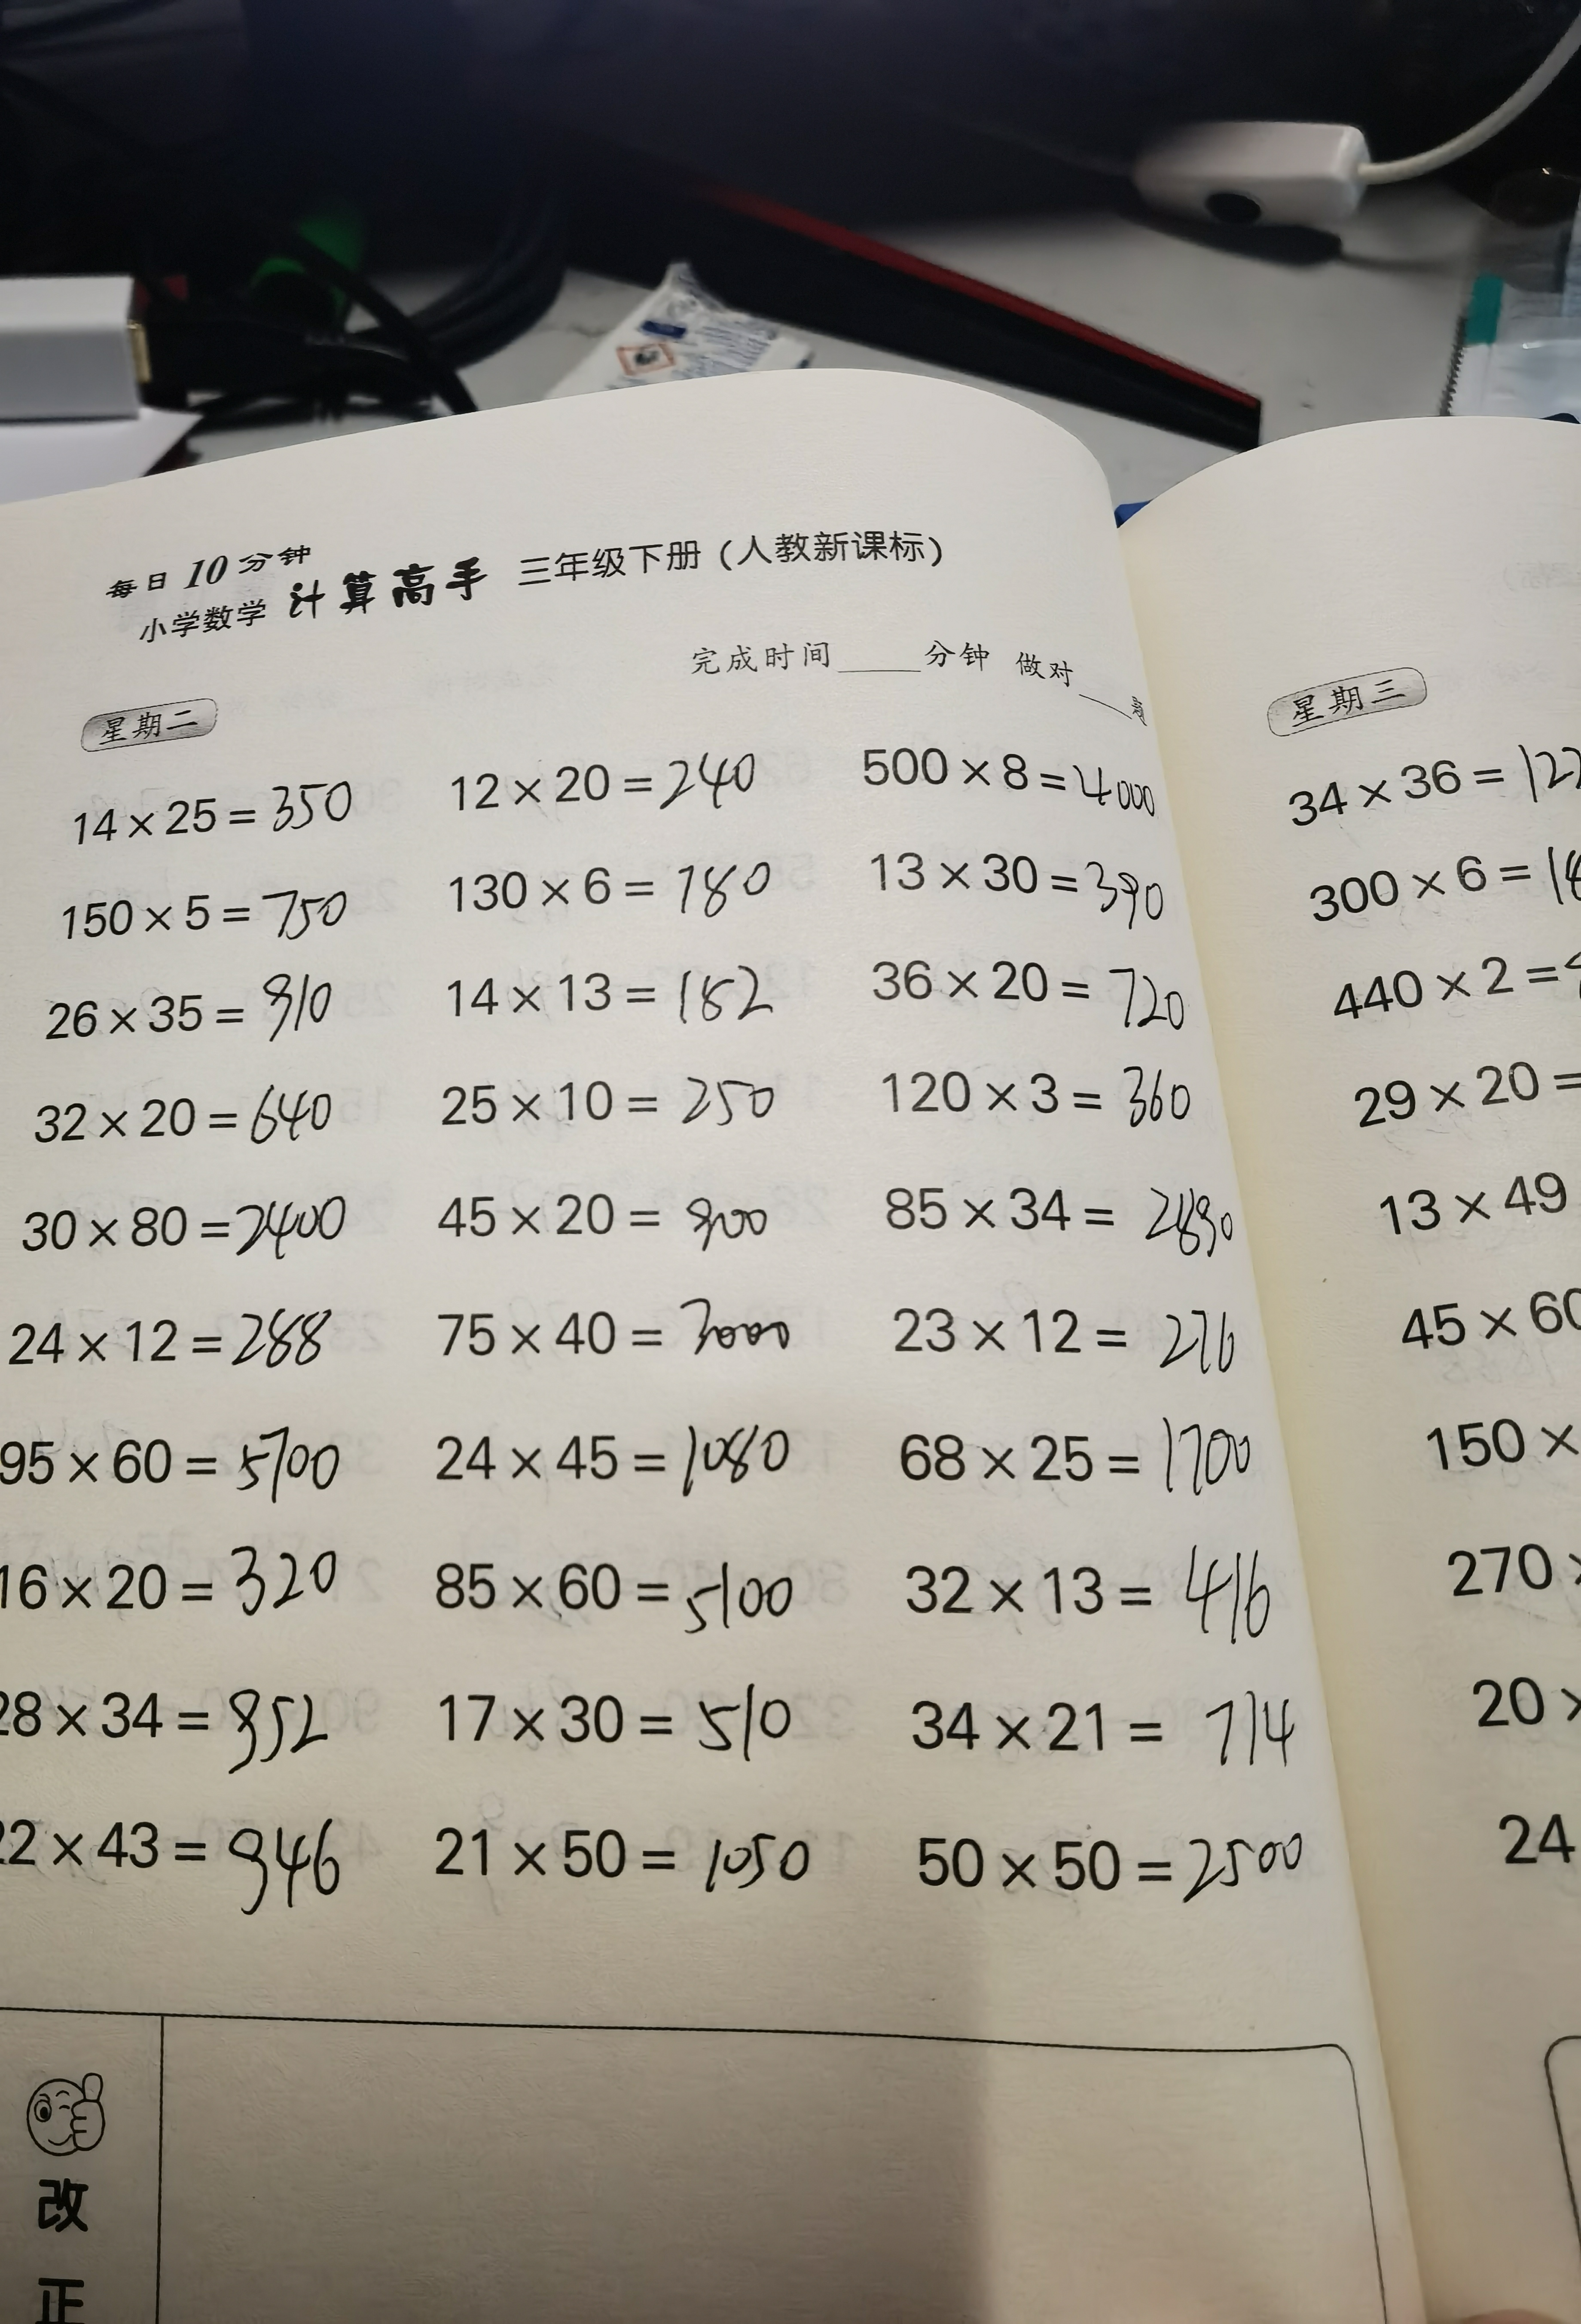equation: (907, 1509, 1323, 1646), (427, 1796, 854, 1930), (831, 685, 1189, 829), (900, 1666, 1306, 1791), (907, 1816, 1343, 1930), (4, 1802, 356, 1936), (877, 1147, 1239, 1272), (423, 1542, 824, 1653), (404, 1657, 810, 1759), (882, 1271, 1258, 1380), (416, 1405, 822, 1503), (858, 946, 1210, 1059), (873, 1048, 1223, 1161), (5, 1532, 367, 1638), (2, 1675, 356, 1779), (866, 829, 1195, 939), (434, 1292, 829, 1382), (12, 1290, 362, 1389), (896, 1408, 1263, 1502), (415, 1057, 792, 1147), (441, 842, 790, 935), (429, 1179, 794, 1267), (7, 1419, 372, 1503), (51, 761, 376, 851), (25, 1068, 355, 1156), (436, 734, 780, 817), (12, 1177, 362, 1256), (431, 960, 783, 1038), (46, 879, 351, 953), (35, 967, 344, 1039)
